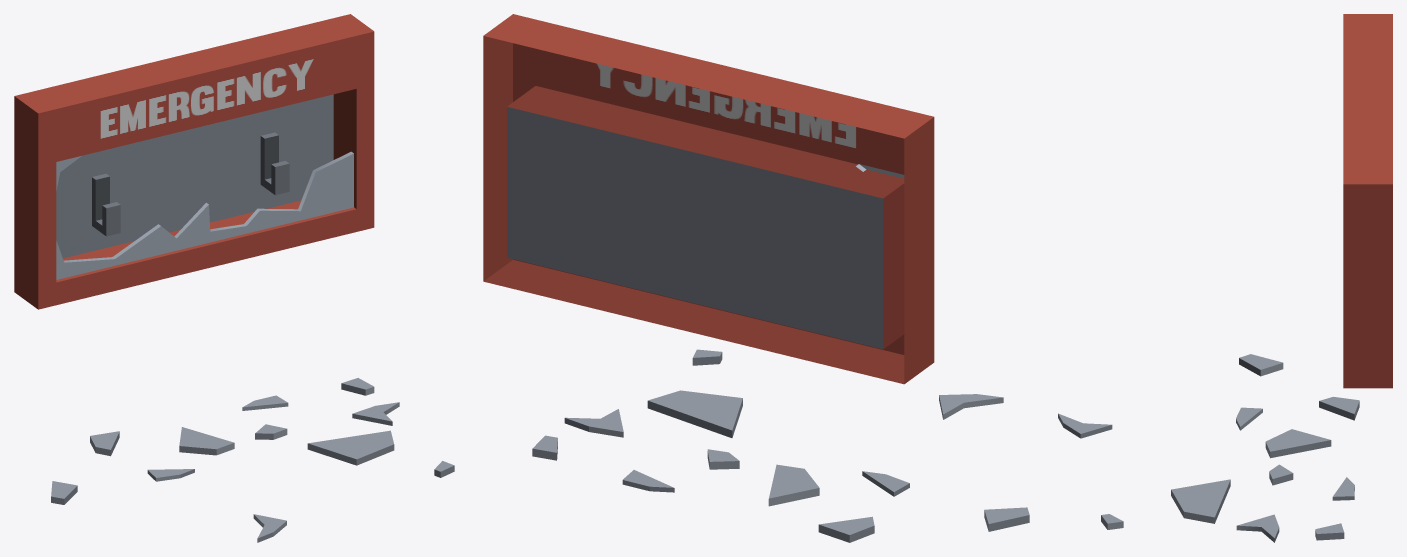
File: AI_Env_Emergency_Box.fbx
3 renders of one model, left to right at view 1: azimuth 30°, elevation 25°; view 2: azimuth 150°, elevation 25°; view 3: azimuth 270°, elevation 25°, orthographic. The views are drawn at different scales.
Parts seen in each view (by area): view 1: AI_Env_Emergency_Box; view 2: AI_Env_Emergency_Box; view 3: AI_Env_Emergency_Box.
Part boxes in pixels (left/top/right/bottom): AI_Env_Emergency_Box: left=14, top=14, right=454, bottom=542; AI_Env_Emergency_Box: left=483, top=14, right=1029, bottom=542; AI_Env_Emergency_Box: left=1058, top=14, right=1392, bottom=542.
Size of the model in its own units: 2.81 by 2.55 by 2.13.
